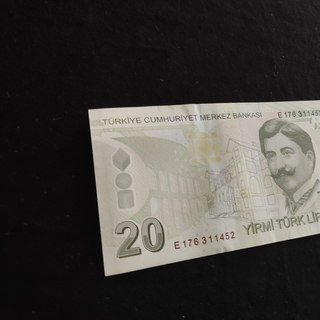20TLBack: (87, 98, 320, 277)
